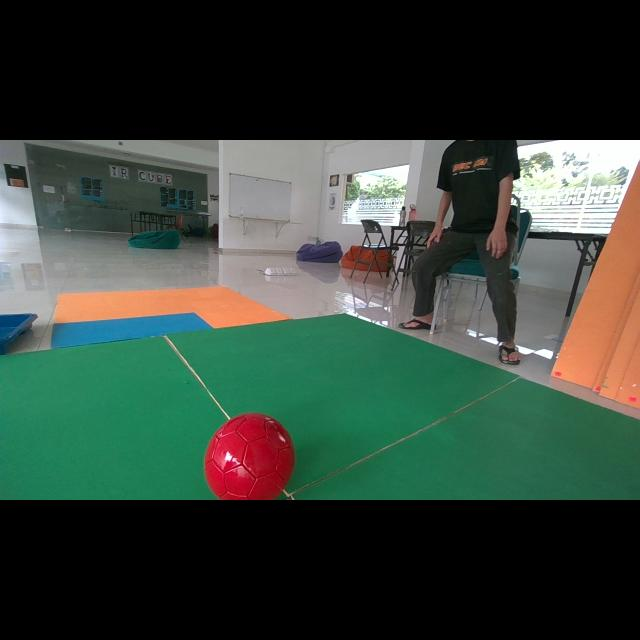R: (204, 412, 295, 500)
